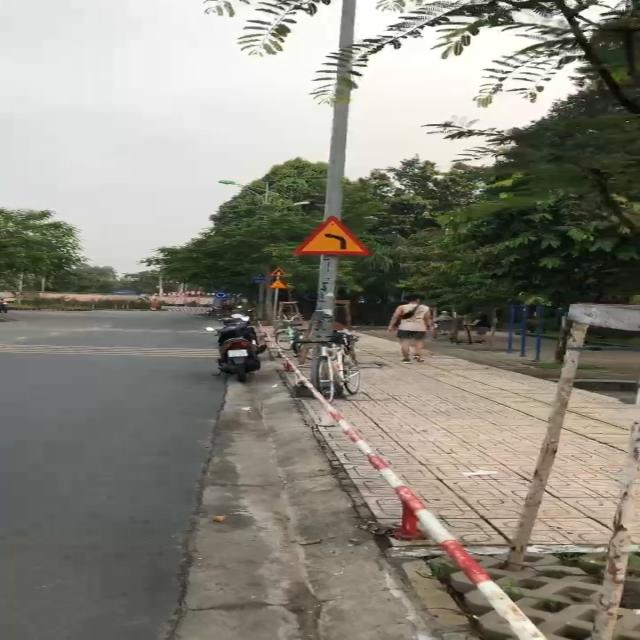Bien bao cho ngoat nguy hiem: (286, 214, 371, 254)
